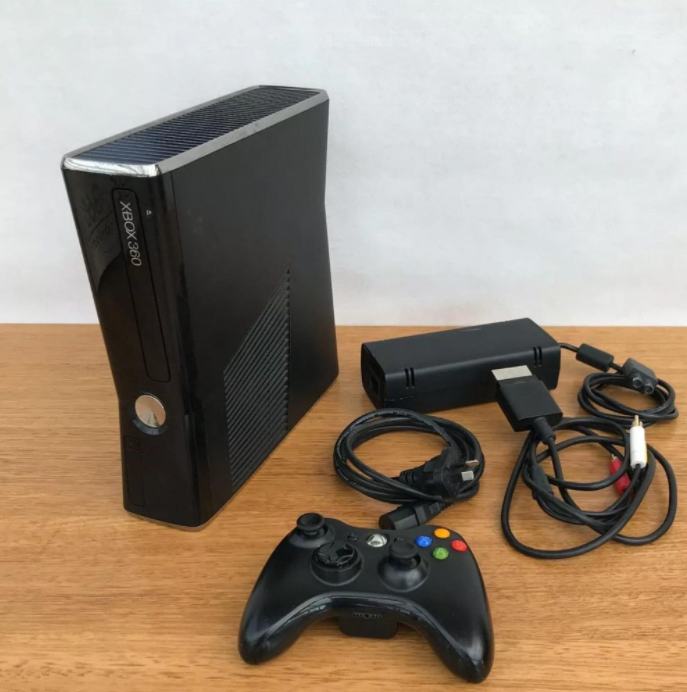gamingconsole: (244, 513, 495, 682)
